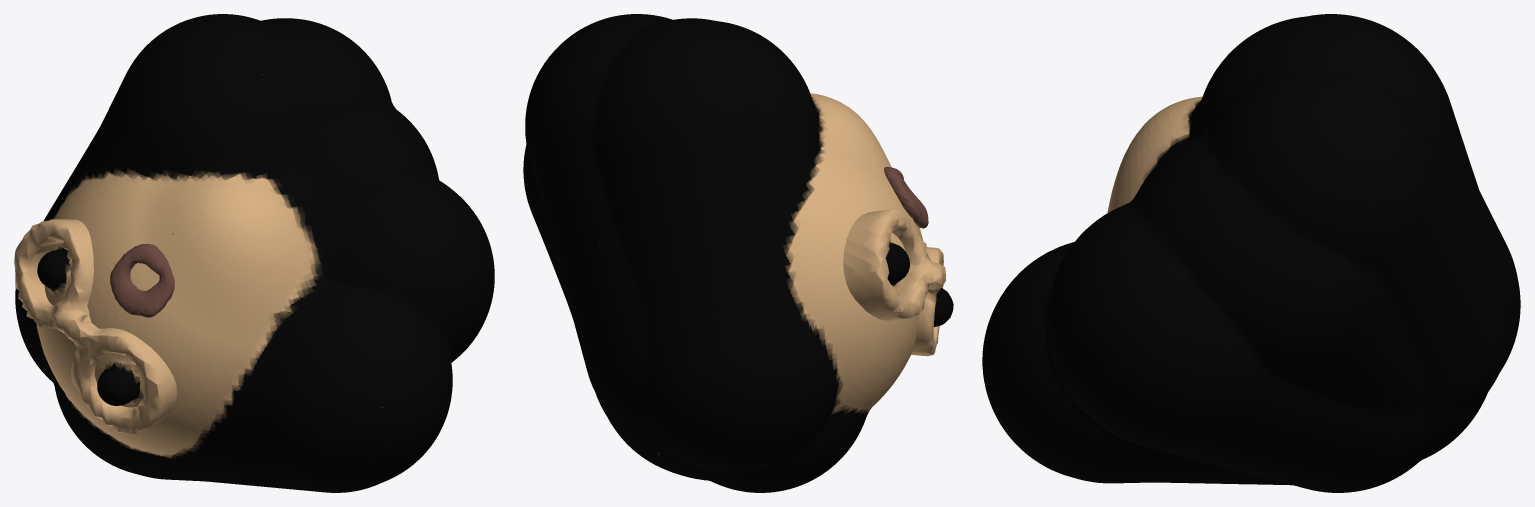
File: kay-head.gltf
3 renders of one model, left to right at view 1: azimuth 30°, elevation 25°; view 2: azimuth 150°, elevation 25°; view 3: azimuth 270°, elevation 25°, orthographic. The views are drawn at different scales.
Visible parts, largest first — view 1: Layer_1, Layer_2, Layer_5; view 2: Layer_1, Layer_2, Layer_5; view 3: Layer_1.
Boxes of the visible parts, x1,y1,x2,y2 form: Layer_1: (15,14,494,492); Layer_2: (14,219,176,434); Layer_5: (110,244,174,317); Layer_1: (523,14,953,492); Layer_2: (843,209,945,356); Layer_5: (884,167,928,228); Layer_1: (982,14,1520,492).
Size of the model in its own units: 58.88 by 61.25 by 62.21.
Materials: 3 (3 with a texture image).
